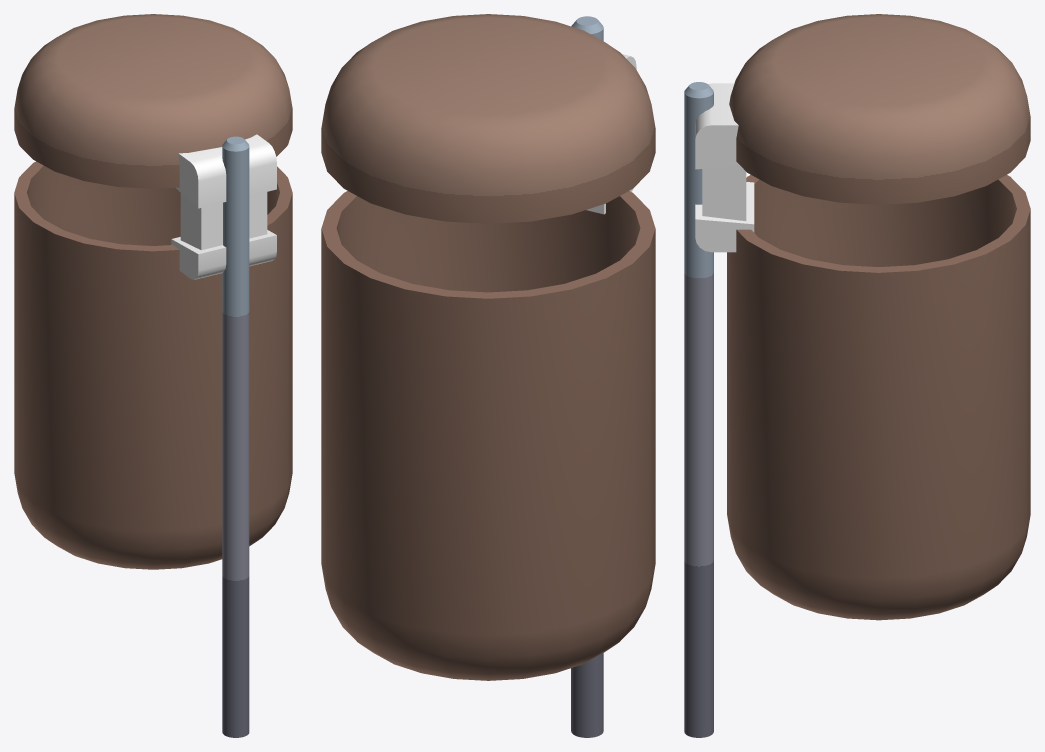
The model's file is cestoOrg.fbx.
3 views of the same model, side by side, from view 1: azimuth 30°, elevation 25°; view 2: azimuth 150°, elevation 25°; view 3: azimuth 270°, elevation 25° (orthographic). The views are drawn at different scales.
Parts seen in each view (by area): view 1: cestoOrg; view 2: cestoOrg; view 3: cestoOrg.
Part boxes in pixels (x1,y1,x2,y2): cestoOrg: [14, 14, 292, 737]; cestoOrg: [321, 14, 655, 737]; cestoOrg: [684, 14, 1030, 737].
Bounding box in the file's own units: 102 × 249 × 117.
